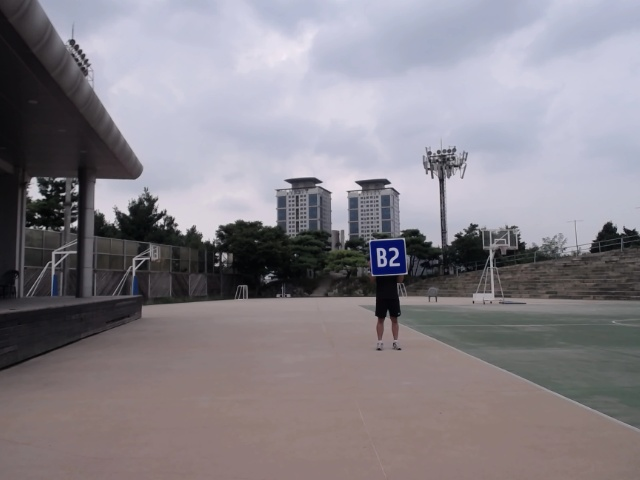delivery_b2: (368, 238, 408, 276)
